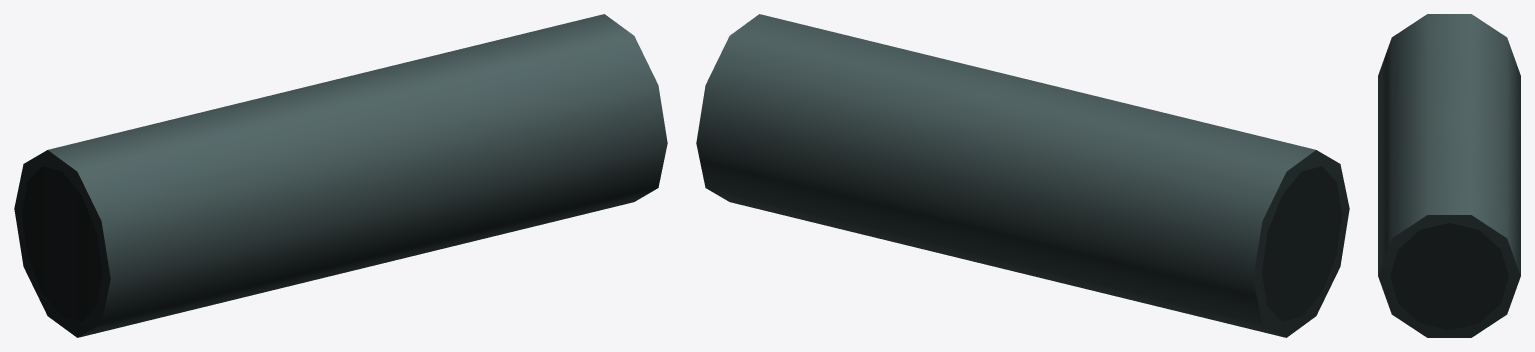
The model's file is Pipe_3E.fbx.
3 renders of one model, left to right at view 1: azimuth 30°, elevation 25°; view 2: azimuth 150°, elevation 25°; view 3: azimuth 270°, elevation 25°, orthographic. The views are drawn at different scales.
Parts seen in each view (by area): view 1: Pipe_3E; view 2: Pipe_3E; view 3: Pipe_3E.
Part boxes in pixels (bbox=[...]): Pipe_3E: bbox=[14, 14, 667, 337]; Pipe_3E: bbox=[696, 14, 1349, 337]; Pipe_3E: bbox=[1378, 14, 1520, 337].
Bounding box in the file's own units: 4.01 × 1.14 × 1.2.
